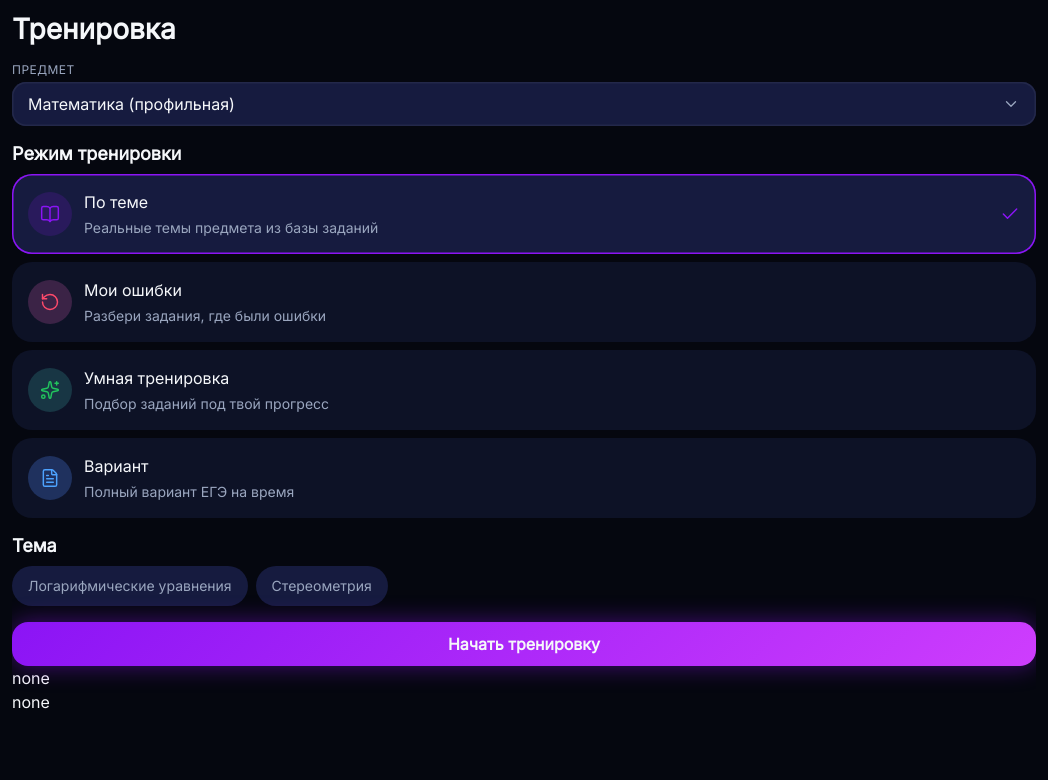
Test: Training — structure (no "Быстрый старт") › navigates straight to the real Mistakes screen for "Мои ошибки", without fetching a task
Click the button "Мои ошибки Разбери задания, где были ошибки" at point(50, 302), box 12,262 -> 1036,342
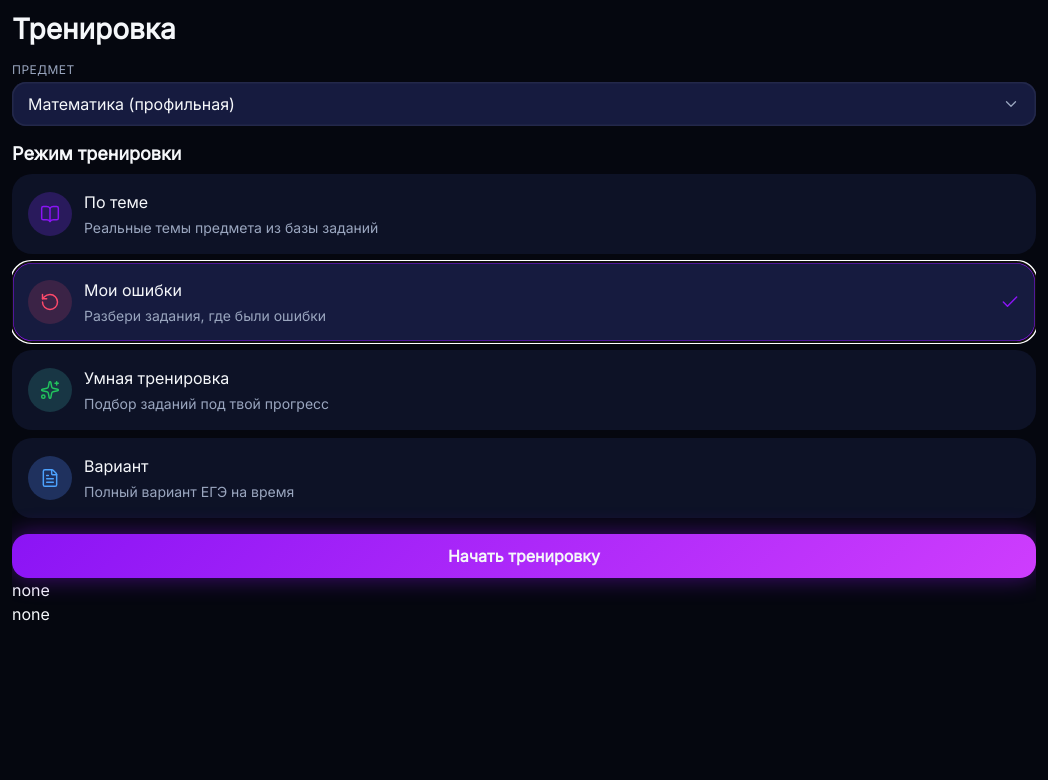
Click the button "Начать тренировку" at point(524, 556), box 12,534 -> 1036,578
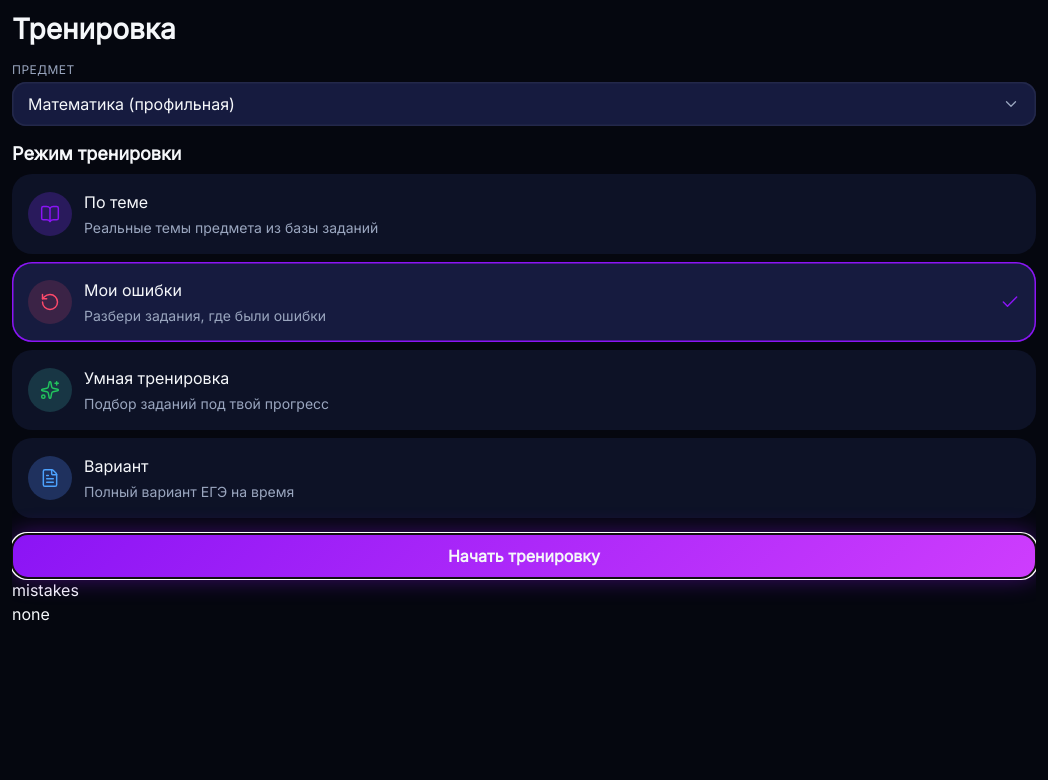
Expected: the text with test id "overlay" reads "mistakes", 12,580 -> 79,600
